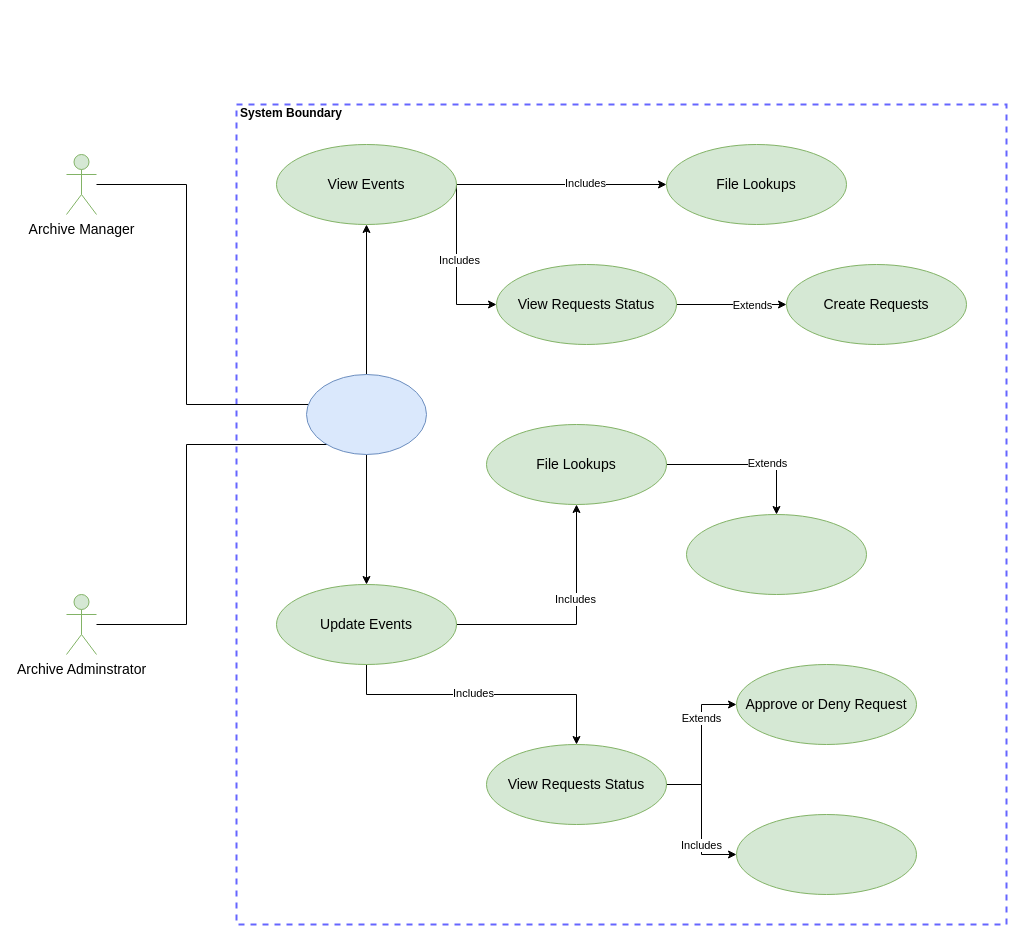
Image size: 1025x943. Some labels were removed from this diagram. Each missing label, with the centre of its shape:
Login: (366,414)
Request Verification: (826,854)
Upload/Download Docs: (776,554)
